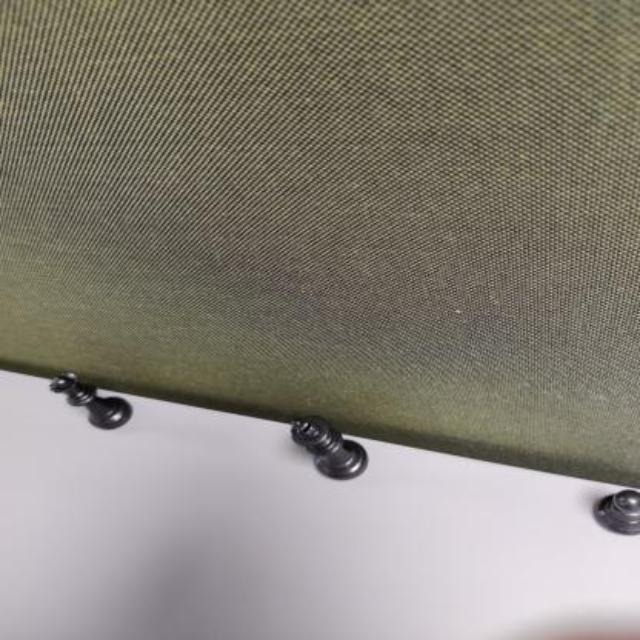black-king: (288, 416, 369, 480)
black-pawn: (594, 489, 638, 535)
black-queen: (50, 372, 133, 430)
